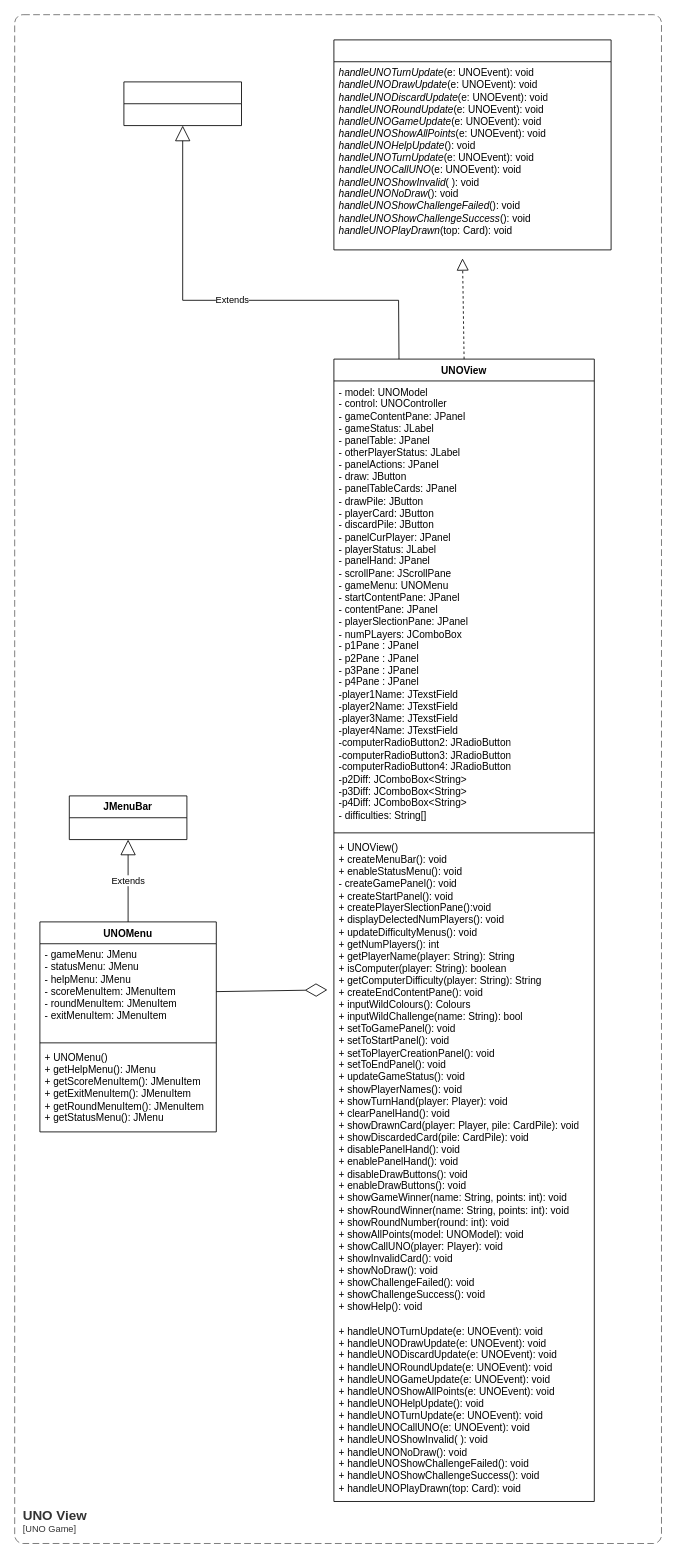
Image size: 676x1558. Some labels were removed from this diagram. The shapes that lost their labels are listed below. From the top down, each one's box as (x1, y1, x2, y2) in pixels, then its label:
(123, 81, 242, 126): JFrame
(333, 39, 611, 250): <<interface>> UNOModelView
